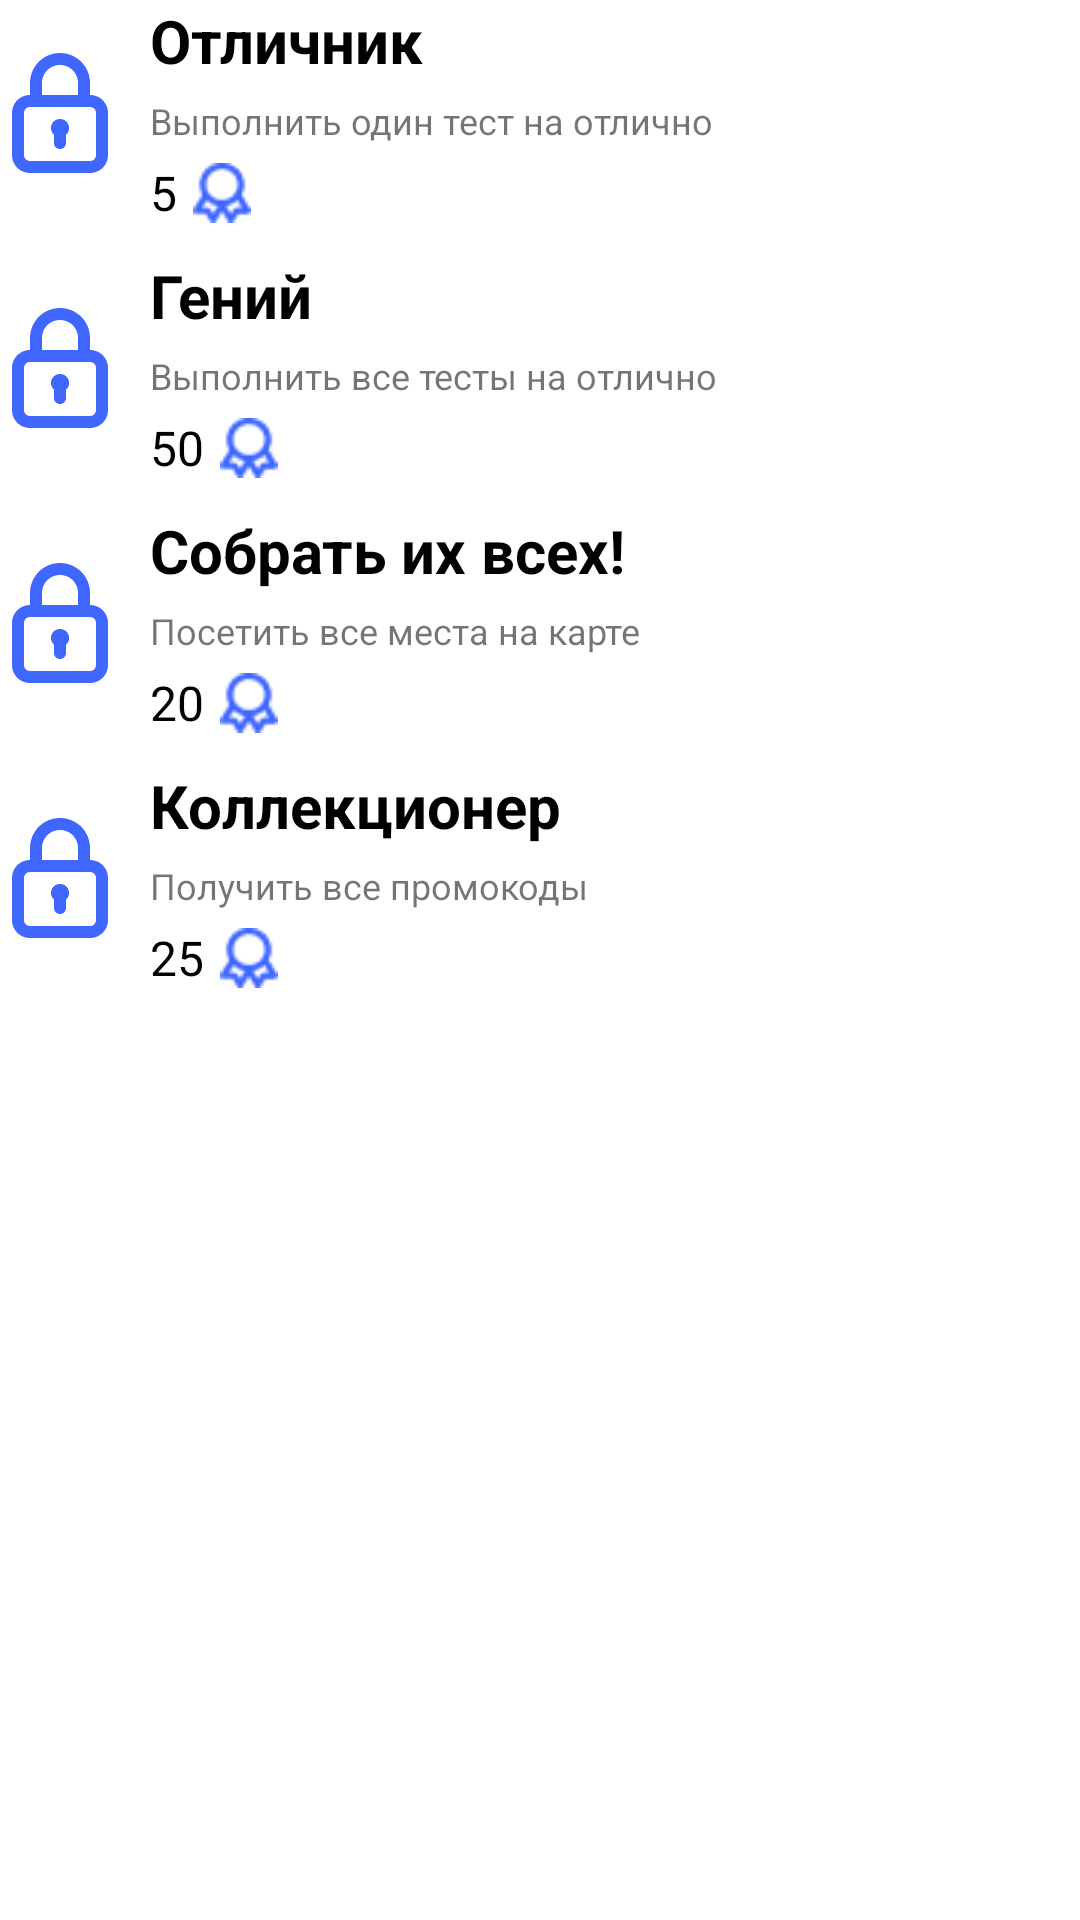

Icon bounding boxes for this 1080*1920 phone screenshot, format detection(x1, y1, x2, y2):
locked: detection(12, 53, 108, 173), detection(12, 308, 108, 428), detection(12, 563, 108, 683), detection(12, 818, 108, 938)
points: detection(193, 163, 251, 223), detection(220, 418, 278, 478), detection(220, 673, 278, 733), detection(220, 928, 278, 988)
